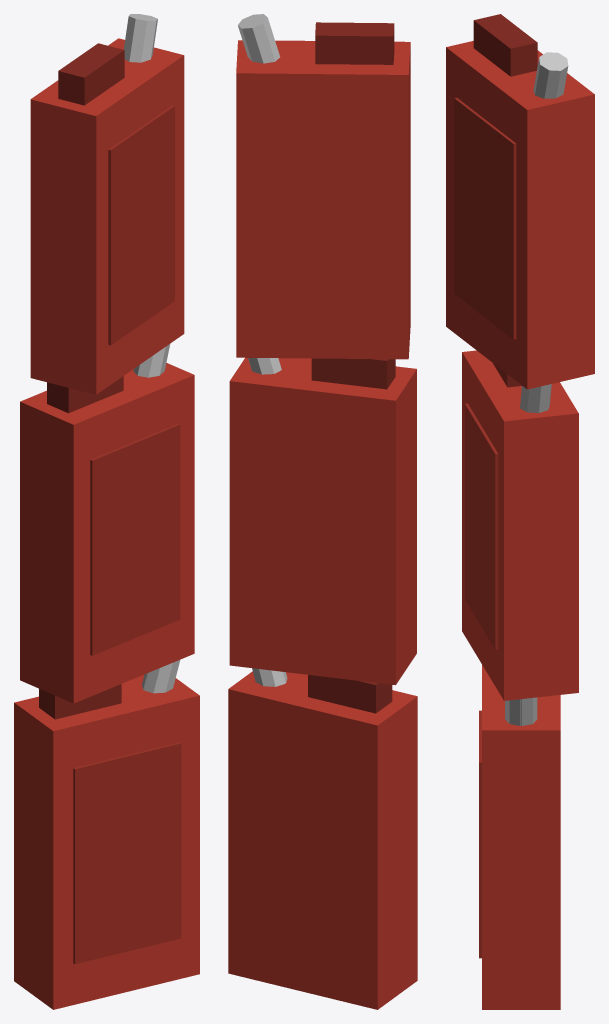
File: Proc_Fuel.fbx
The picture shows the model from 3 angles, left to right: view 1: azimuth 30°, elevation 25°; view 2: azimuth 150°, elevation 25°; view 3: azimuth 270°, elevation 25°; orthographic projection. The views are drawn at different scales.
Parts seen in each view (by area): view 1: Proc_Fuel__Stack, Proc_Fuel; view 2: Proc_Fuel__Stack, Proc_Fuel; view 3: Proc_Fuel__Stack, Proc_Fuel.
Part boxes in pixels (left/top/right/bottom): Proc_Fuel__Stack: left=15, top=14, right=199, bottom=1009; Proc_Fuel: left=14, top=673, right=198, bottom=1008; Proc_Fuel__Stack: left=229, top=14, right=417, bottom=1008; Proc_Fuel: left=228, top=668, right=416, bottom=1009; Proc_Fuel__Stack: left=446, top=14, right=594, bottom=1009; Proc_Fuel: left=480, top=667, right=560, bottom=1009.
Size of the model in its own units: 0.1205 by 0.6741 by 0.0966.
